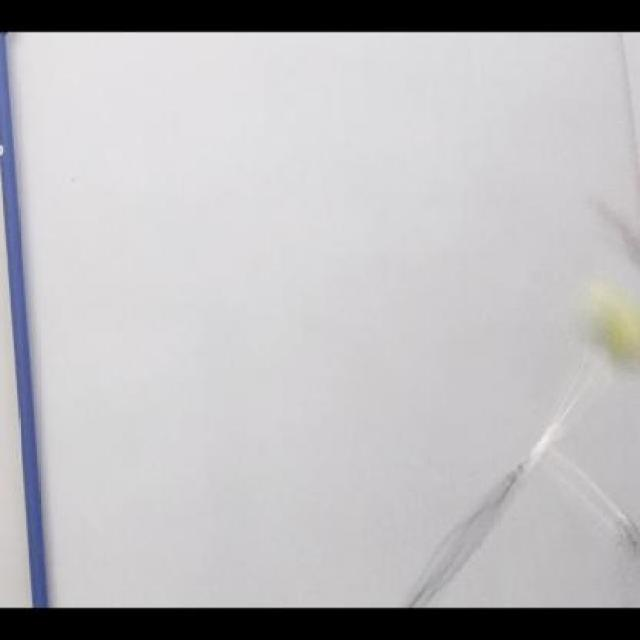baseball: (584, 281, 638, 373)
